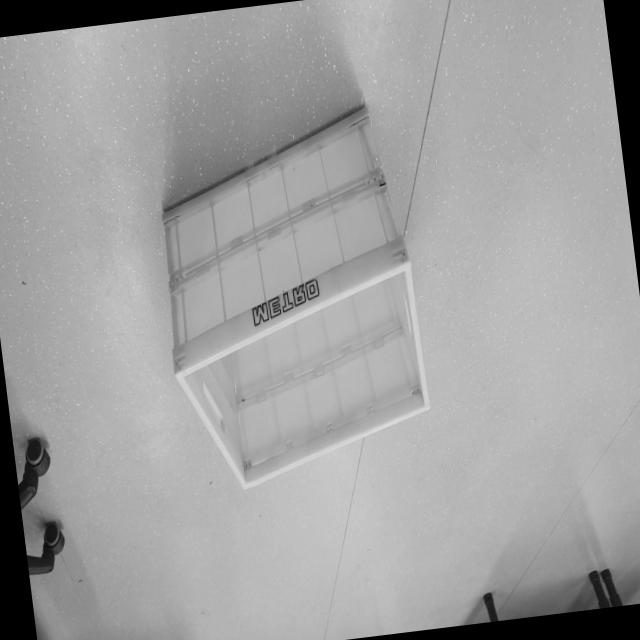box: (125, 80, 447, 519)
